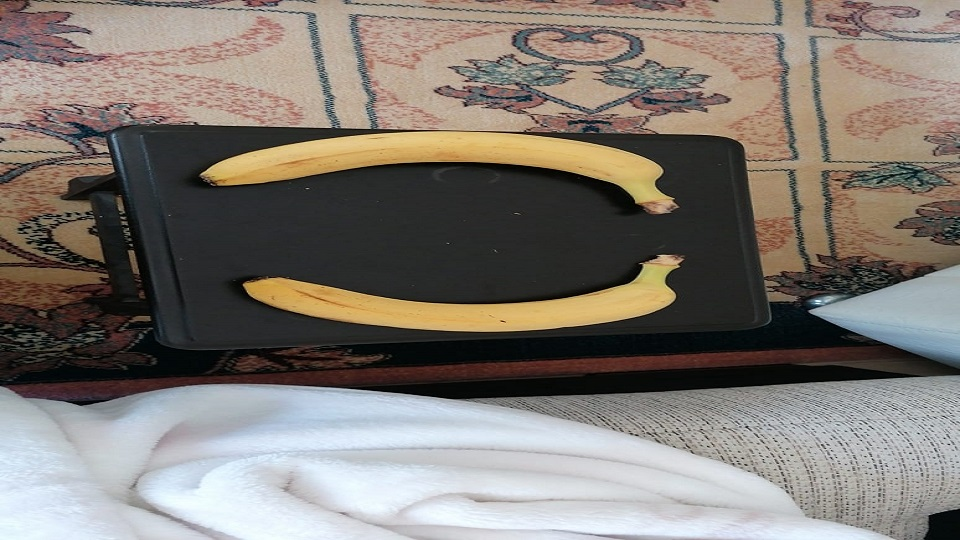muz: (240, 253, 687, 334), (201, 129, 677, 200)
